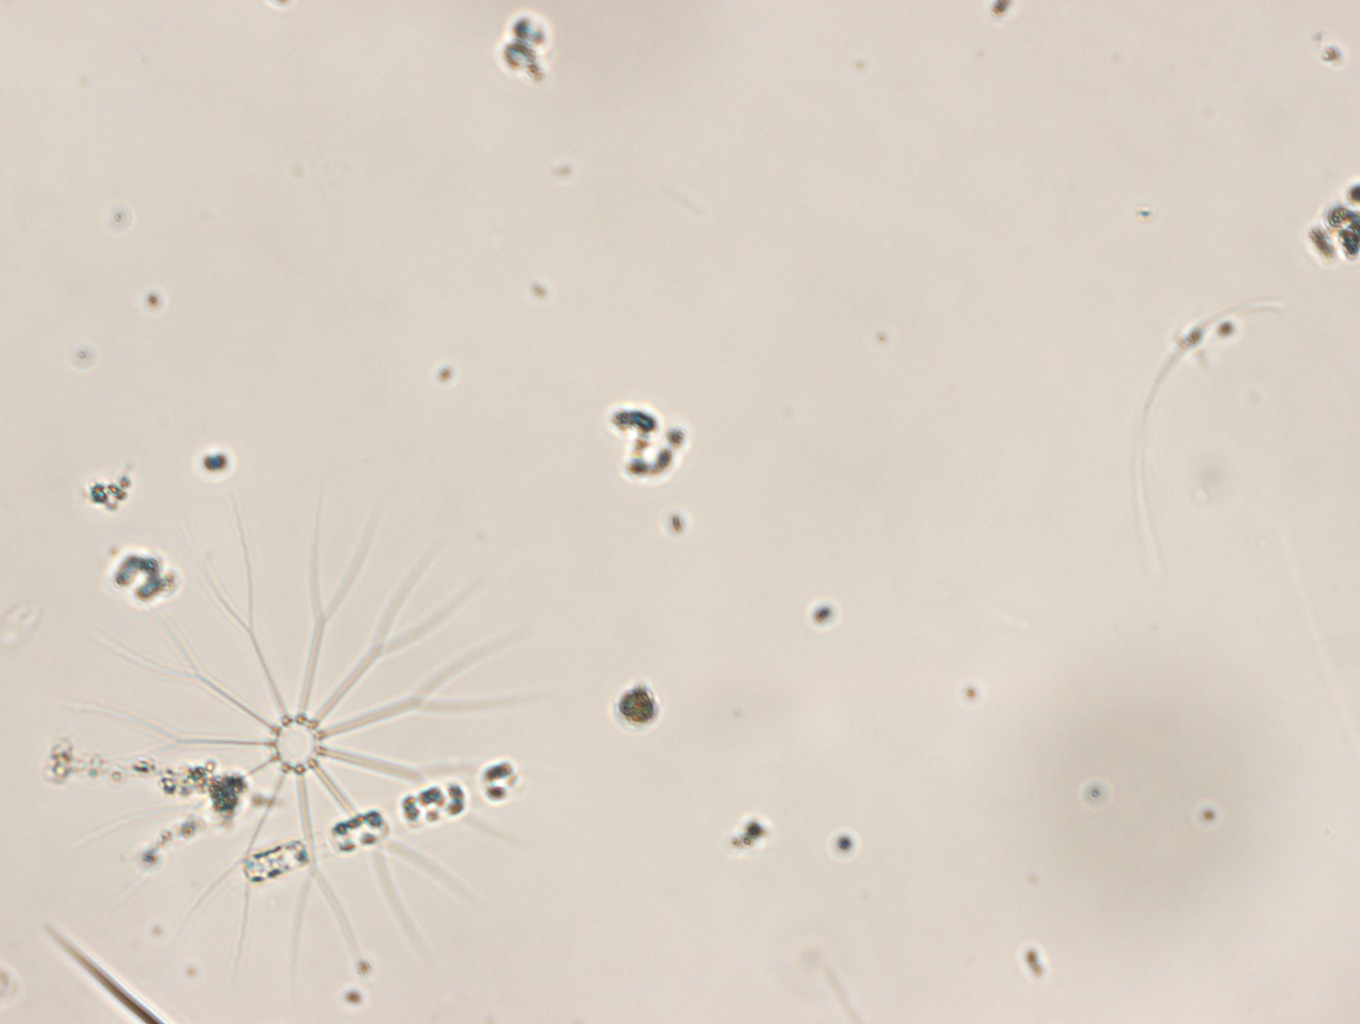bacteriastrum: (56, 472, 562, 1016)
